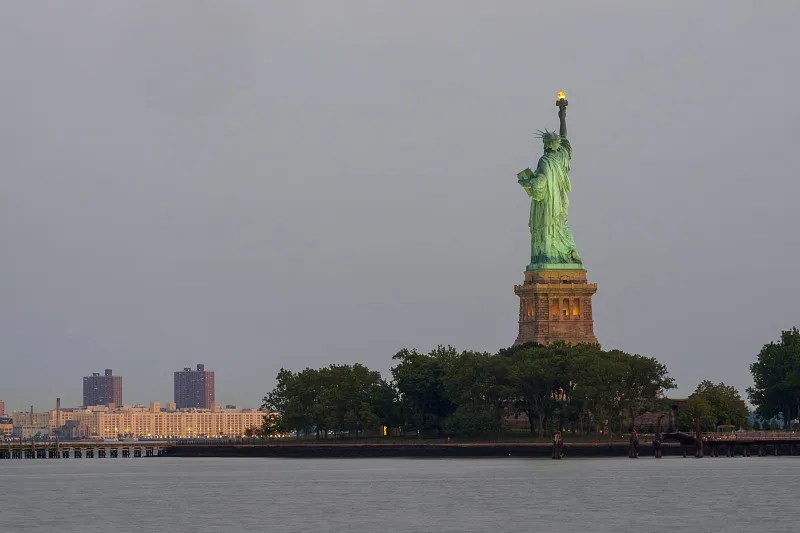SL: (510, 90, 602, 348)
